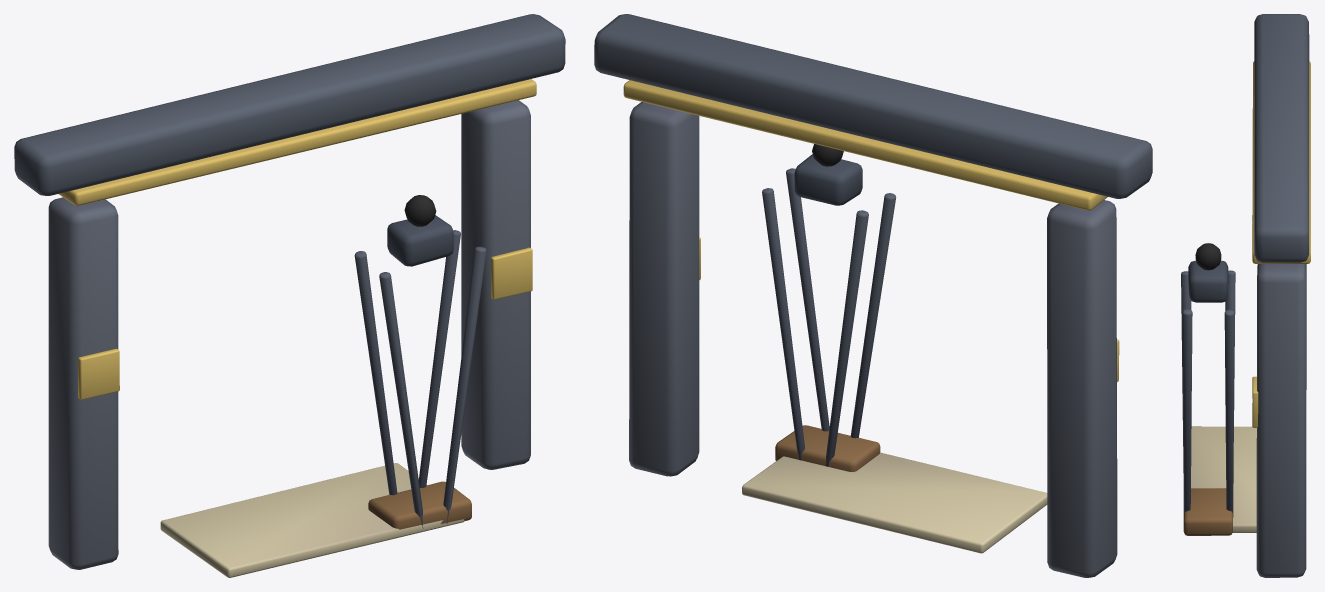
3 views of the same model, side by side, from view 1: azimuth 30°, elevation 25°; view 2: azimuth 150°, elevation 25°; view 3: azimuth 270°, elevation 25° (orthographic). The views are drawn at different scales.
Parts seen in each view (by area): view 1: gate_2be43a5b; view 2: gate_2be43a5b; view 3: gate_2be43a5b.
Part boxes in pixels (bbox=[...]): gate_2be43a5b: bbox=[14, 14, 565, 577]; gate_2be43a5b: bbox=[594, 14, 1152, 577]; gate_2be43a5b: bbox=[1181, 14, 1310, 577].
Bounding box in the file's own units: 5.33 × 4.12 × 1.33.
